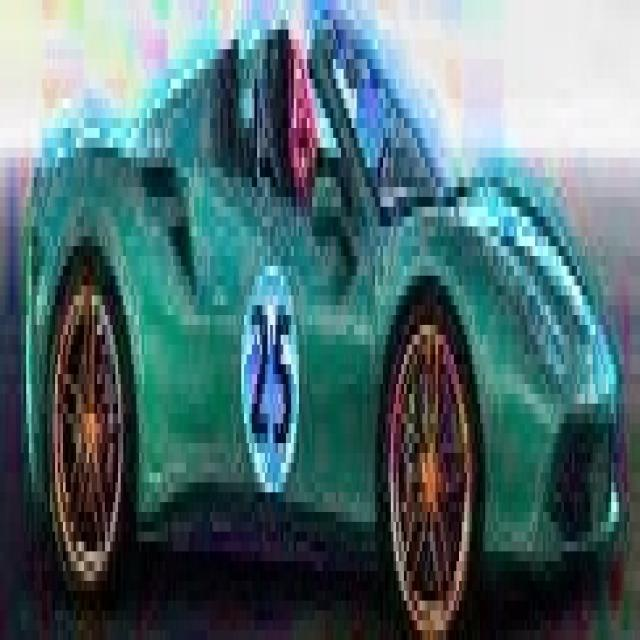green: (26, 19, 619, 640)
